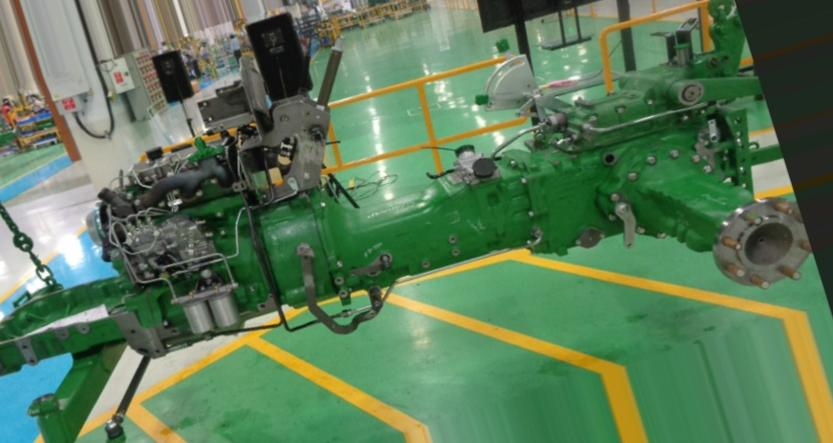engine: (0, 13, 809, 437)
